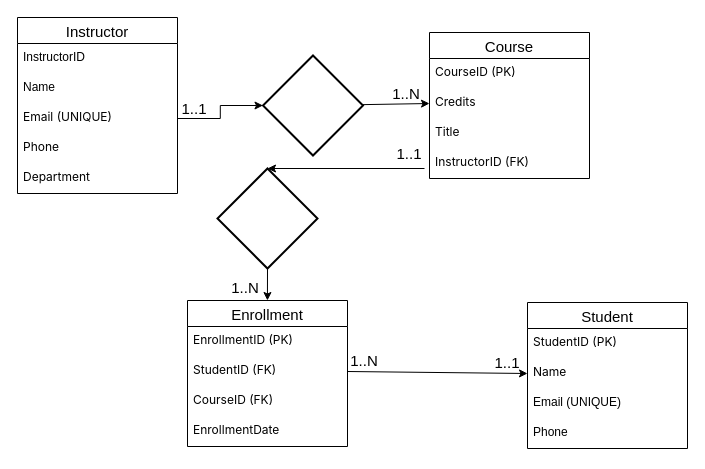
This 705x469 diagram has some shape labels left out. Each missing label, with the box of its shape:
enrolled in: (216, 167, 318, 269)
teaches: (262, 54, 364, 156)
